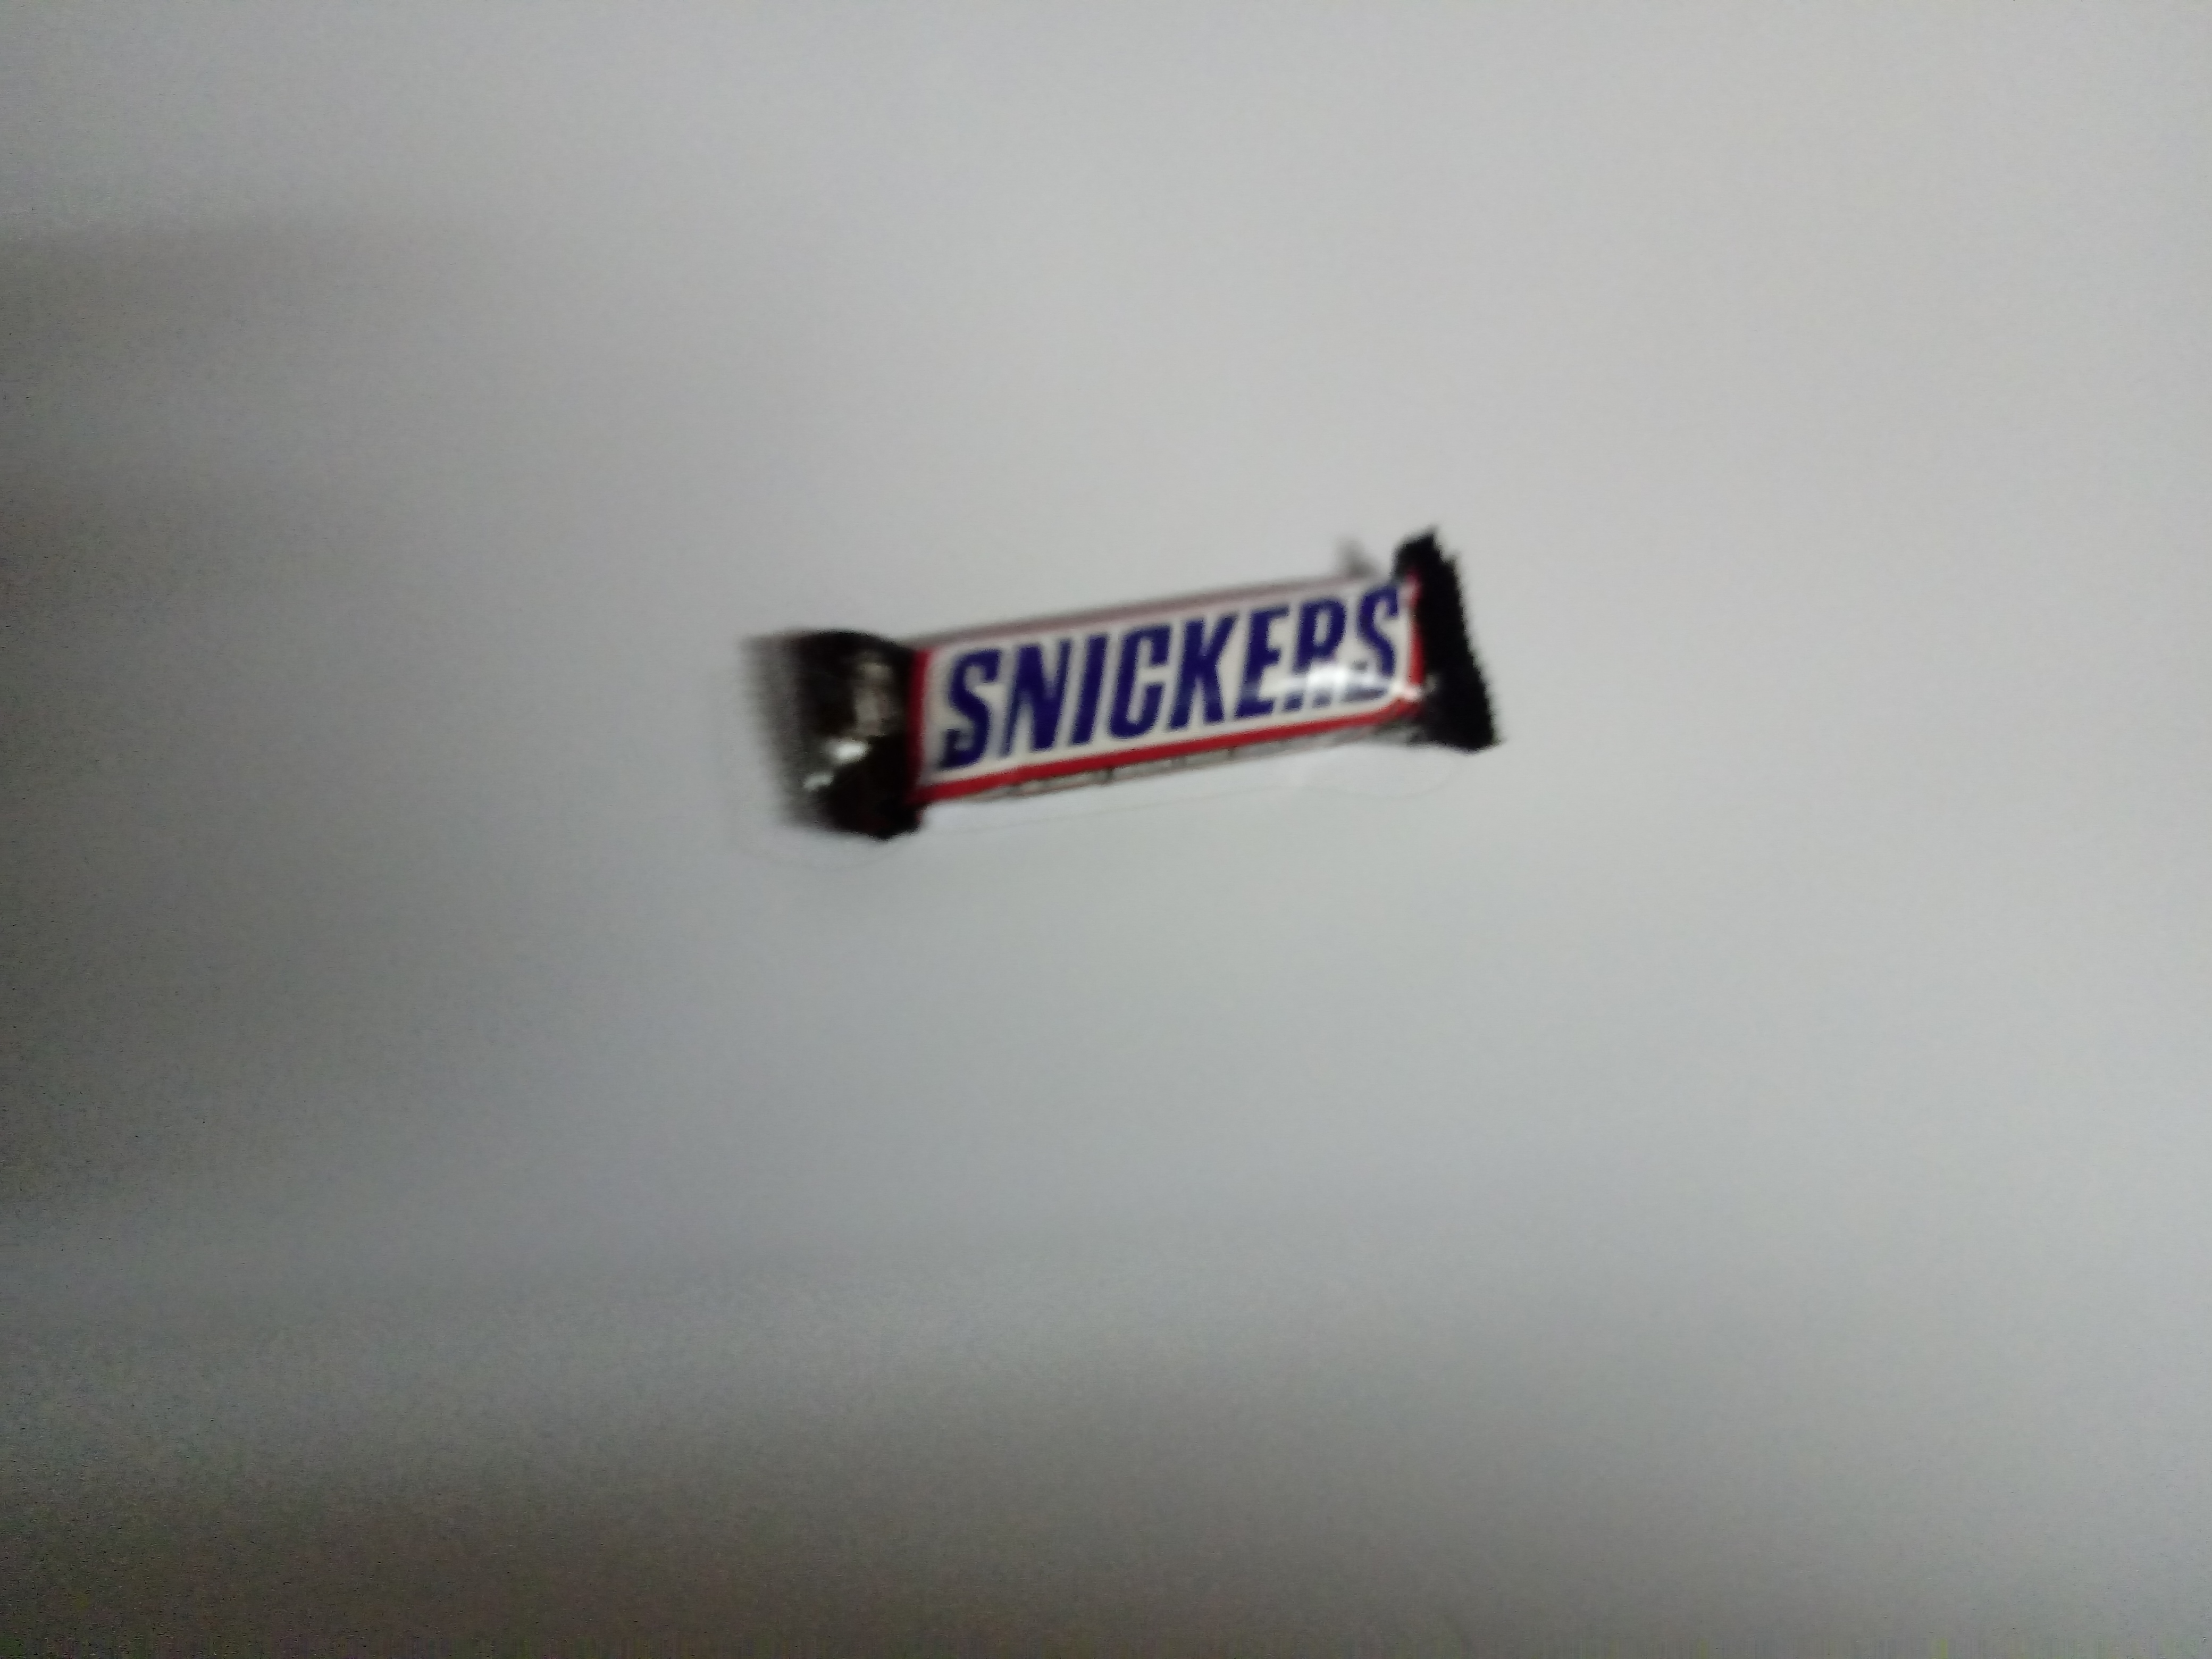snickers: (766, 519, 1538, 847)
